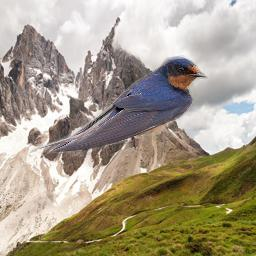Swallow: (30, 55, 208, 156)
